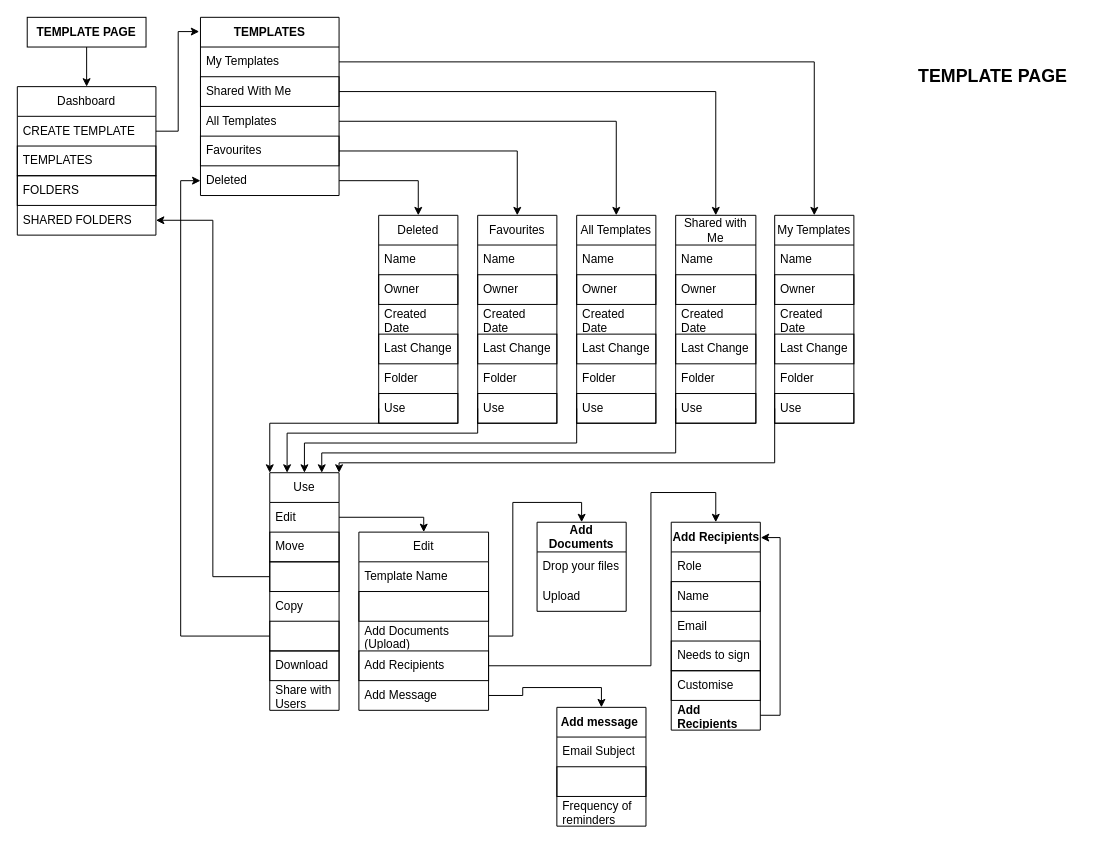
This 1094x843 diagram has some shape labels left out. Each missing label, with the centre of its shape:
"Delete" goes at (x=304, y=635).
"Email Message" goes at (x=601, y=781).
"Shared to Folders" goes at (x=304, y=576).
"Template Description" goes at (x=423, y=606).
